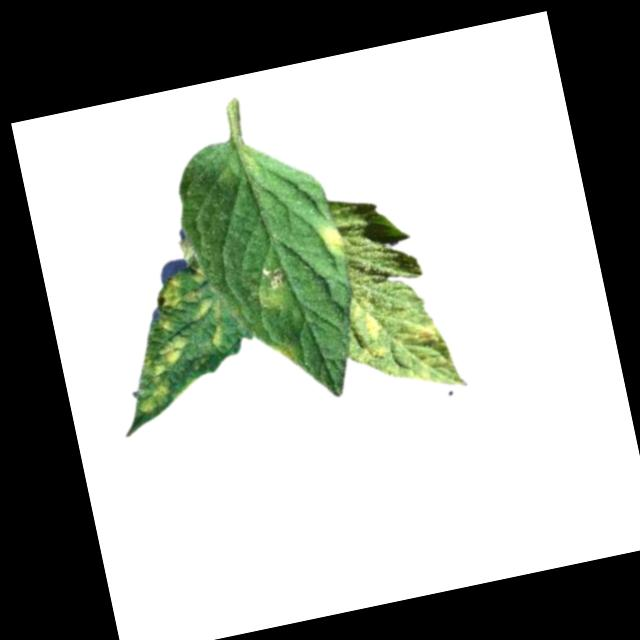Leaf_Mold: (393, 316, 462, 396), (344, 295, 388, 365), (189, 295, 230, 352), (143, 333, 191, 376), (311, 223, 348, 261), (134, 381, 175, 414), (154, 273, 186, 312)
